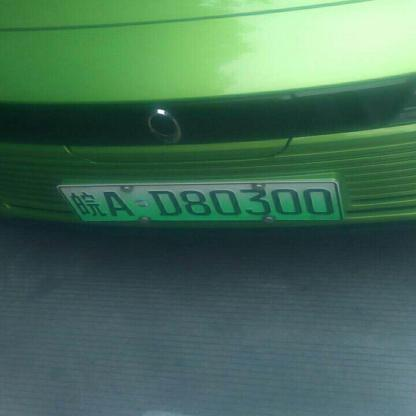lp: (58, 182, 343, 219)
